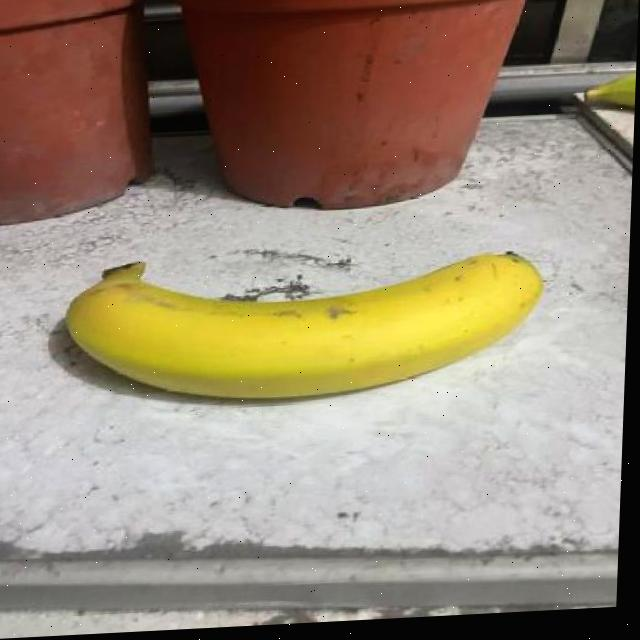banana: (40, 227, 552, 419)
